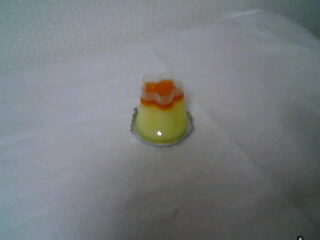001_classes: (124, 73, 200, 152)
